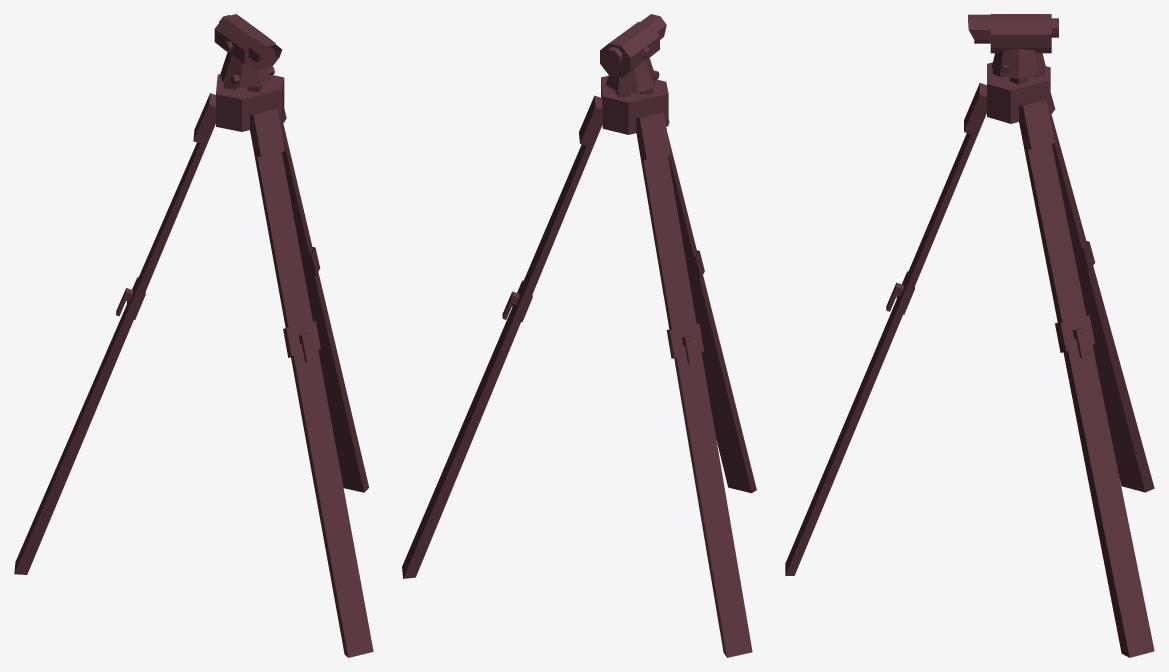
File: theodolite.fbx
The picture shows the model from 3 angles, left to right: view 1: azimuth 30°, elevation 25°; view 2: azimuth 150°, elevation 25°; view 3: azimuth 270°, elevation 25°; orthographic projection. The views are drawn at different scales.
Parts seen in each view (by area): view 1: theodolite; view 2: theodolite; view 3: theodolite.
Boxes of the visible parts, box(x1,y1,x2,y2) form: theodolite: box(14, 14, 373, 657); theodolite: box(402, 14, 756, 657); theodolite: box(785, 14, 1154, 657).
Bounding box in the file's own units: 1.08 × 1.59 × 0.9599.
